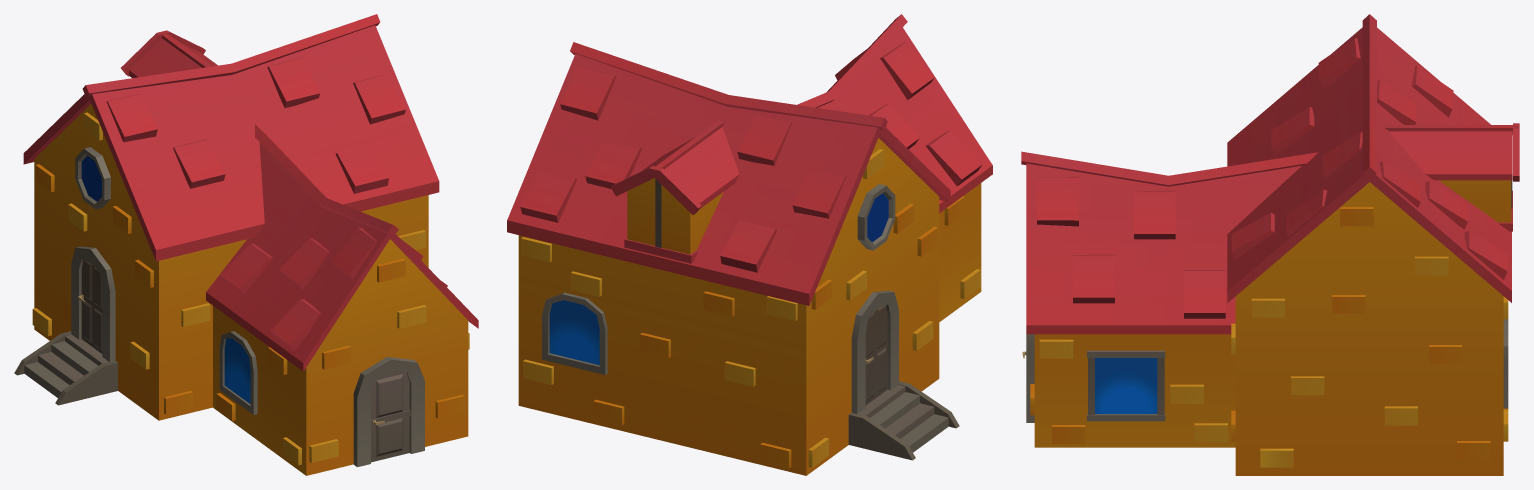
The model's file is SM_House_5.FBX.
3 renders of one model, left to right at view 1: azimuth 30°, elevation 25°; view 2: azimuth 150°, elevation 25°; view 3: azimuth 270°, elevation 25°, orthographic. The views are drawn at different scales.
Visible parts, largest first — view 1: SM_House_5; view 2: SM_House_5; view 3: SM_House_5.
Boxes of the visible parts, x1,y1,x2,y2 form: SM_House_5: [14, 14, 478, 475]; SM_House_5: [507, 14, 992, 475]; SM_House_5: [1021, 14, 1519, 475].
Size of what is drawn, in the model's own units: 883 by 1041 by 726.
